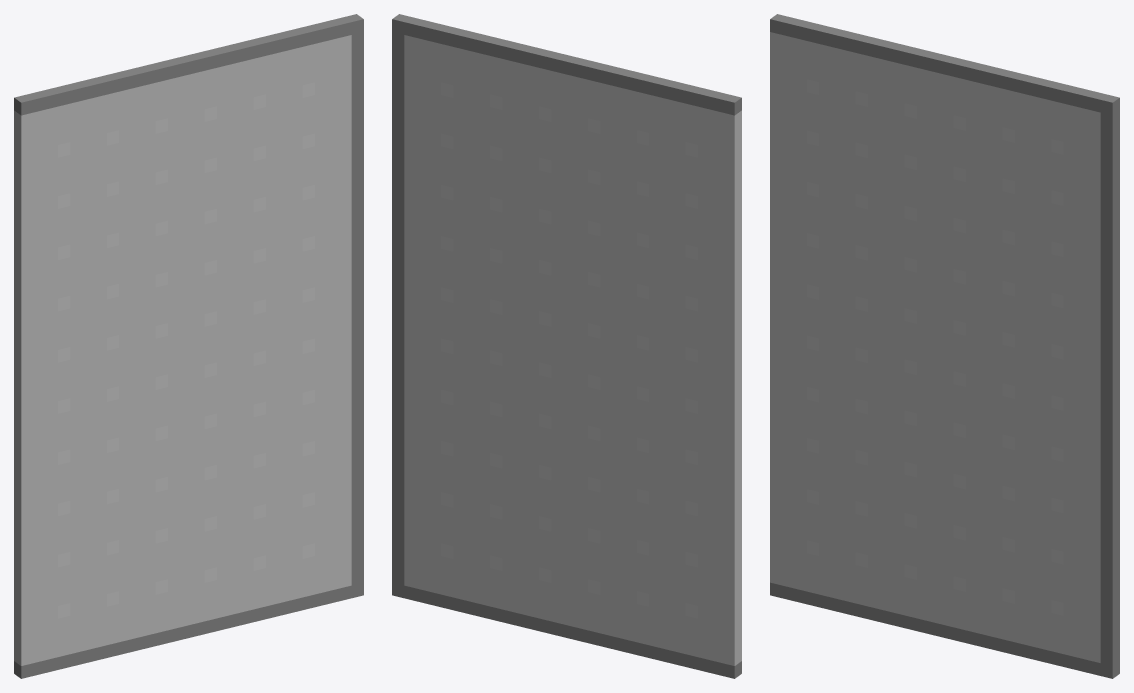
The model's file is CubicleEnd.obj.
3 views of the same model, side by side, from view 1: azimuth 30°, elevation 25°; view 2: azimuth 150°, elevation 25°; view 3: azimuth 330°, elevation 25° (orthographic).
Size of the model in its own units: 2.8 by 4.5 by 0.1.
1 material, 1 textured.
